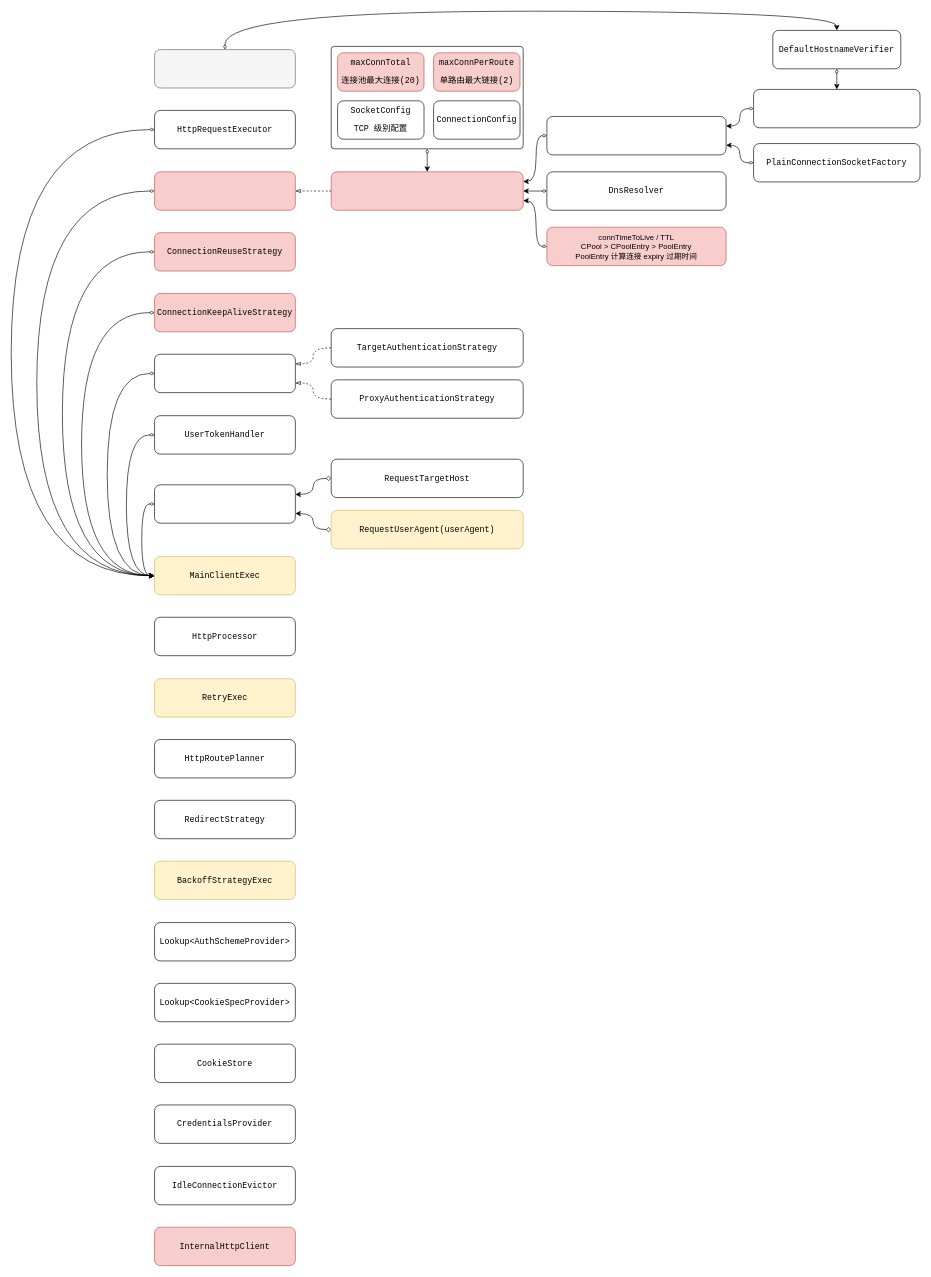
Image size: 931x1277. Some labels were removed from this diagram. Here are the shapes that lost their labels. From the top down, the box of each, then its label:
(154, 49, 295, 88): PublicSuffixMatcher PSL
(753, 89, 920, 128): SSLConnectionSocketFactory
(546, 116, 726, 155): Registry<ConnectionSocketFactory>
(154, 171, 295, 210): HttpClientConnectionManager
(331, 171, 523, 210): PoolingHttpClientConnectionManager 连接池管理
(154, 354, 295, 393): AuthenticationStrategy
(154, 484, 295, 523): ImmutableHttpProcessor
